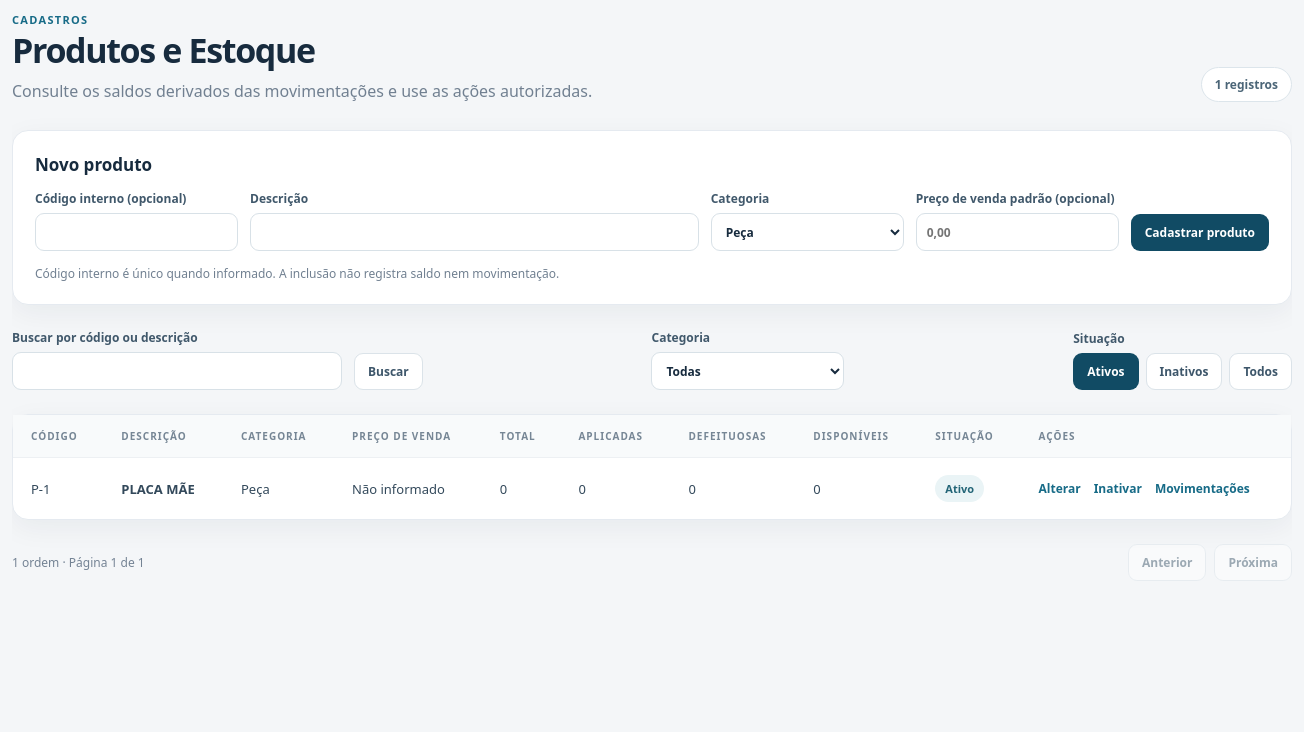
Test case: ProductCatalogPage › cadastra produto sem gerar movimento nem saldo inicial
Expected: the text "PLACA MÃE" is shown, x1=121 y1=480 x2=195 y2=498
Type "P-2" into the field labelled "Código interno (opcional)" at (136, 232), box x1=35 y1=213 x2=238 y2=251
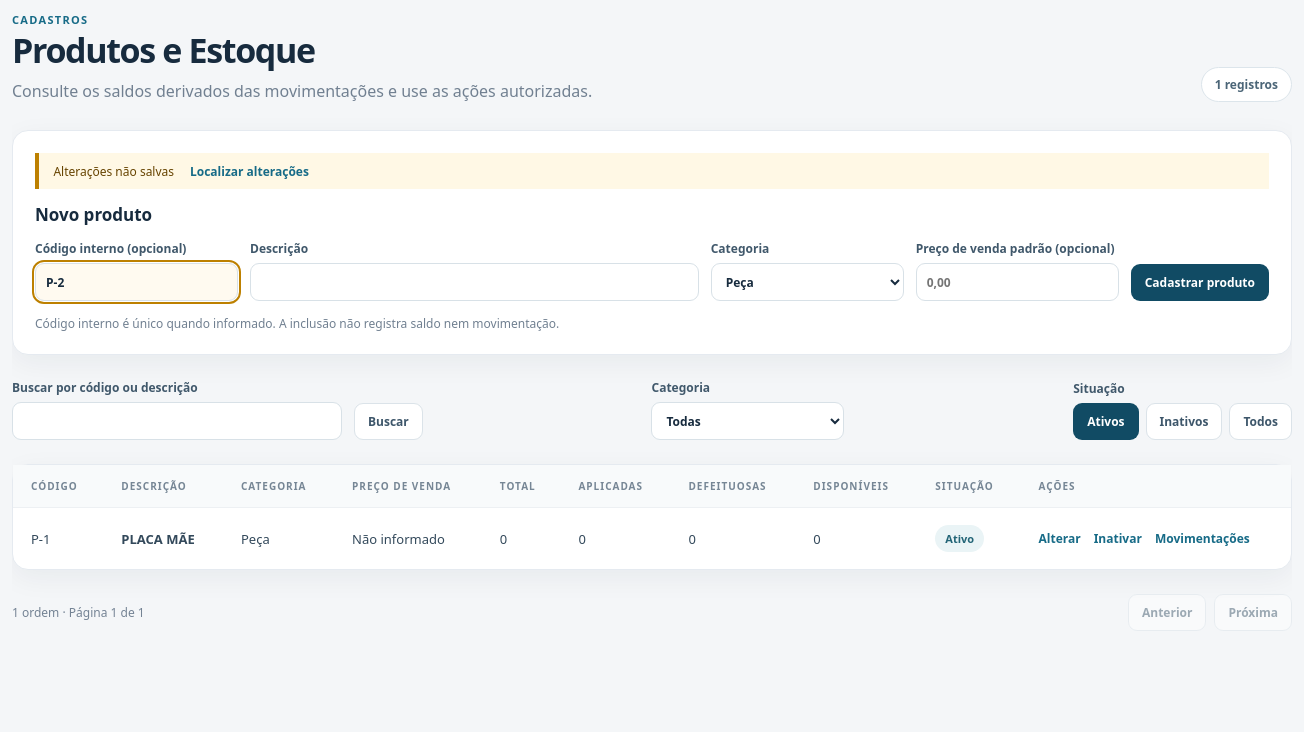
Type "Nova peça" into the field labelled "Descrição" at (474, 282), box x1=250 y1=263 x2=699 y2=301
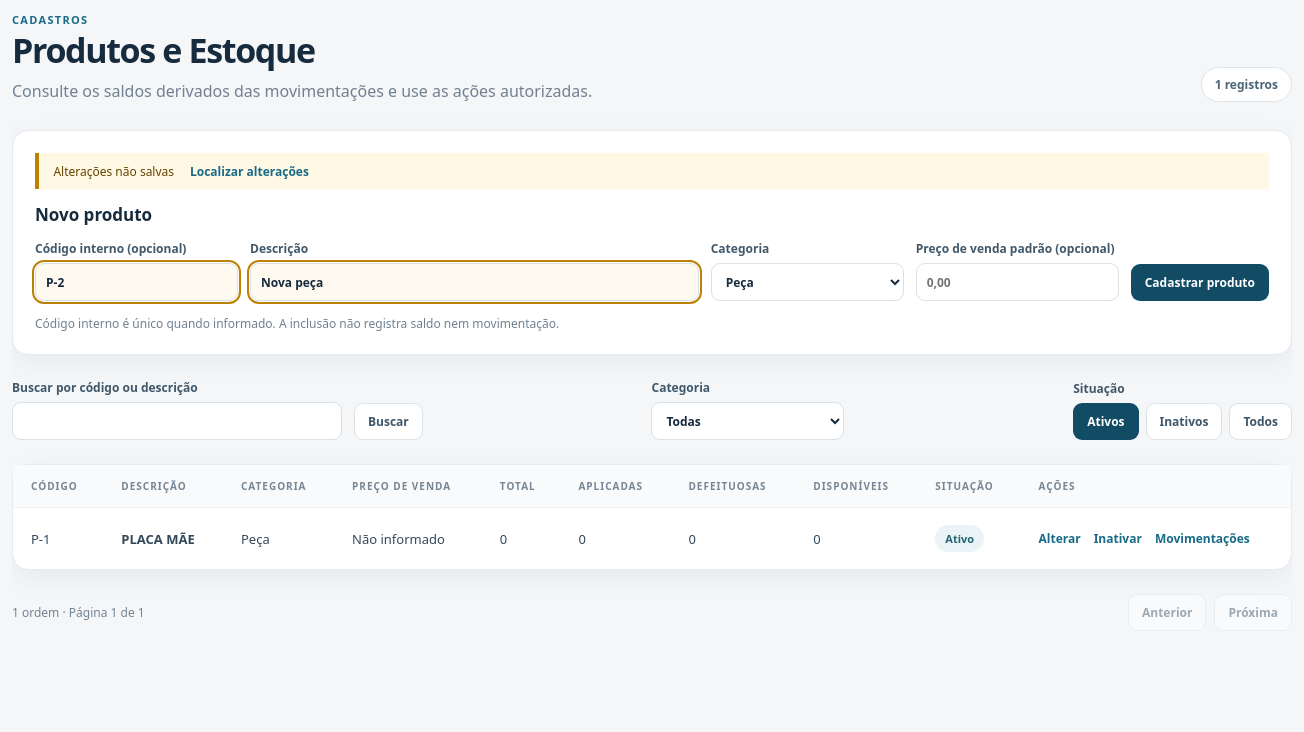
Select "Mercadoria para revenda" in the dropdown labelled "Categoria" below "Preço de venda padrão (opcional)" at (807, 282), box x1=711 y1=263 x2=904 y2=301
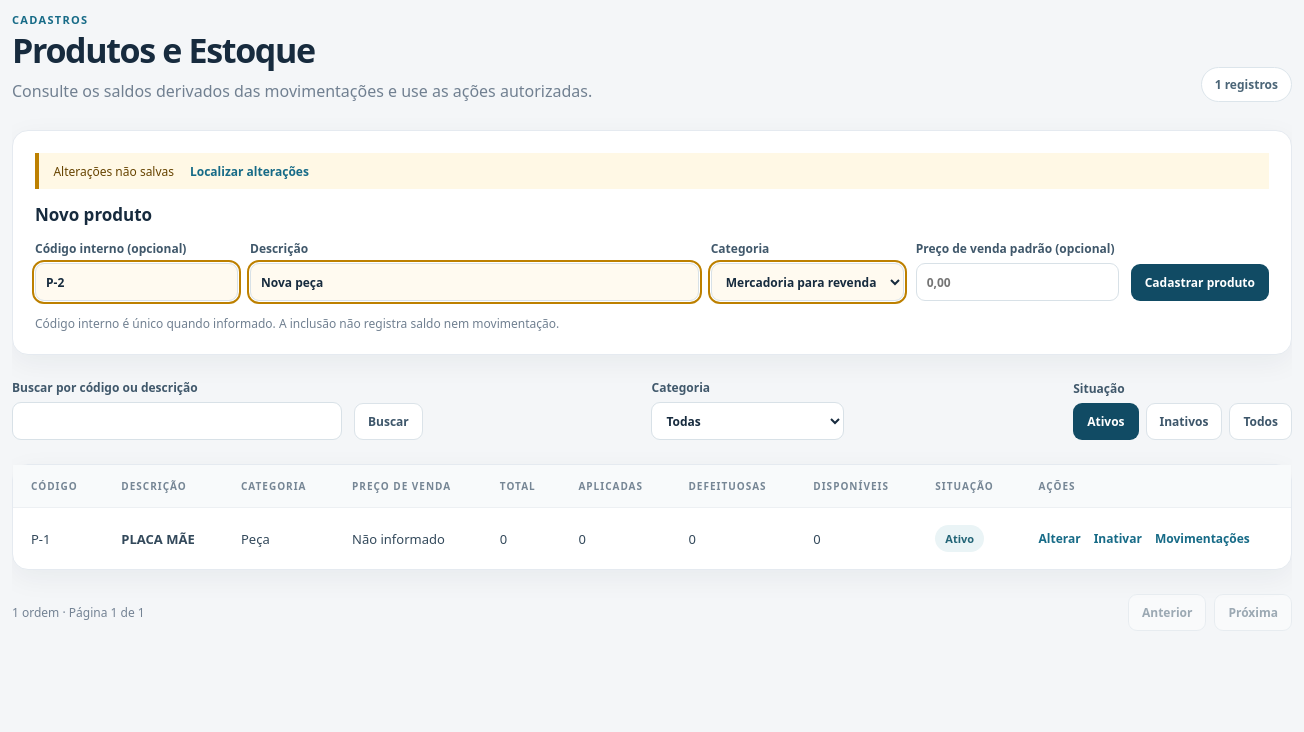
Click the button "Cadastrar produto" at (1200, 283), box x1=1131 y1=264 x2=1269 y2=301
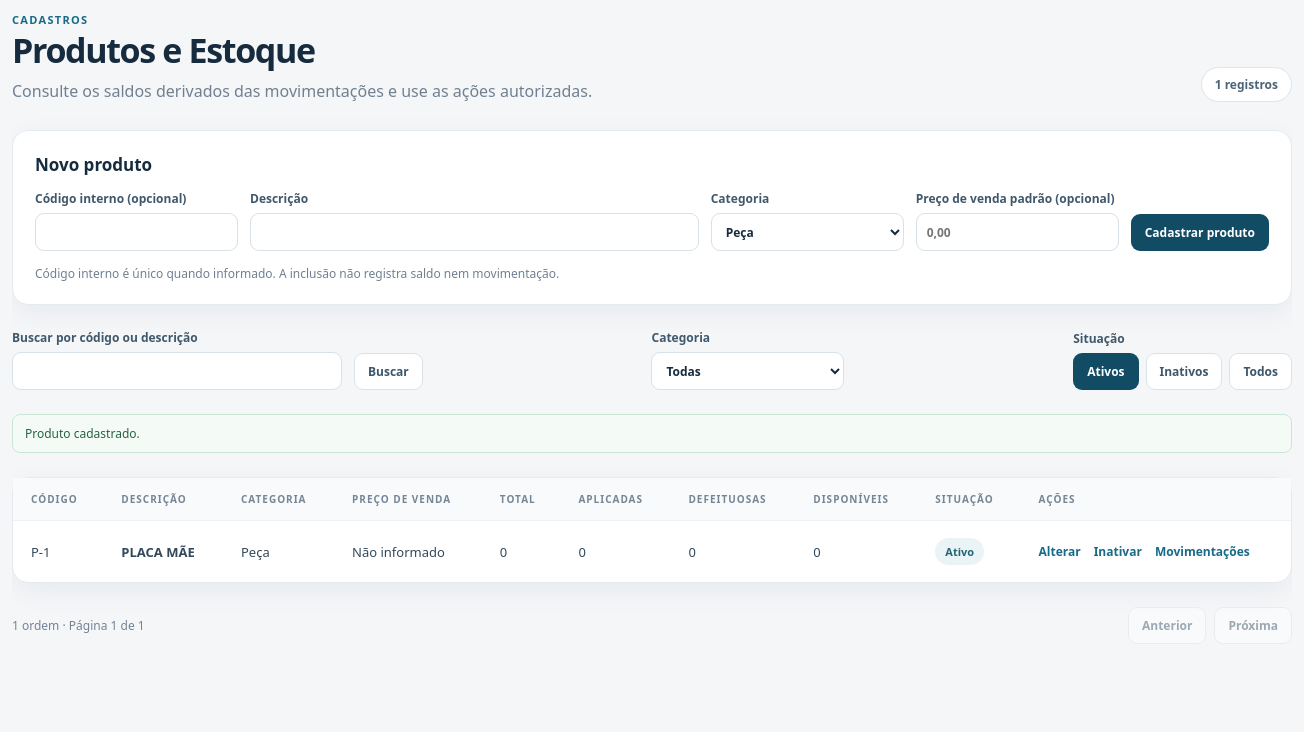
Result: the text "Produto cadastrado." is shown at x1=12 y1=414 x2=1292 y2=453
